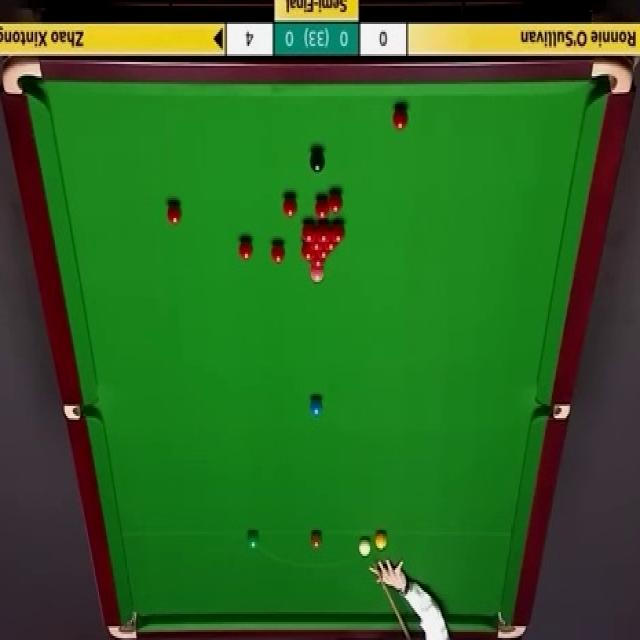black-ball: (309, 147, 325, 173)
blue-ball: (310, 398, 323, 416)
brown-ball: (310, 531, 323, 548)
green-ball: (244, 528, 258, 552)
pink-ball: (308, 260, 323, 277)
red-ball: (392, 105, 409, 132), (326, 190, 343, 213), (329, 220, 345, 244), (166, 203, 184, 224), (282, 196, 299, 218), (237, 240, 254, 262), (269, 242, 285, 265), (313, 198, 330, 218), (300, 224, 318, 242), (294, 238, 310, 253), (322, 239, 338, 253), (318, 222, 329, 242), (309, 238, 323, 252), (304, 246, 316, 262), (316, 248, 330, 260)
white-ball: (360, 537, 370, 557)
yellow-ball: (374, 530, 388, 551)
